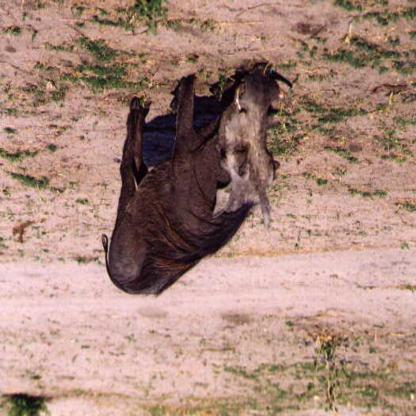boar: (99, 60, 282, 300)
